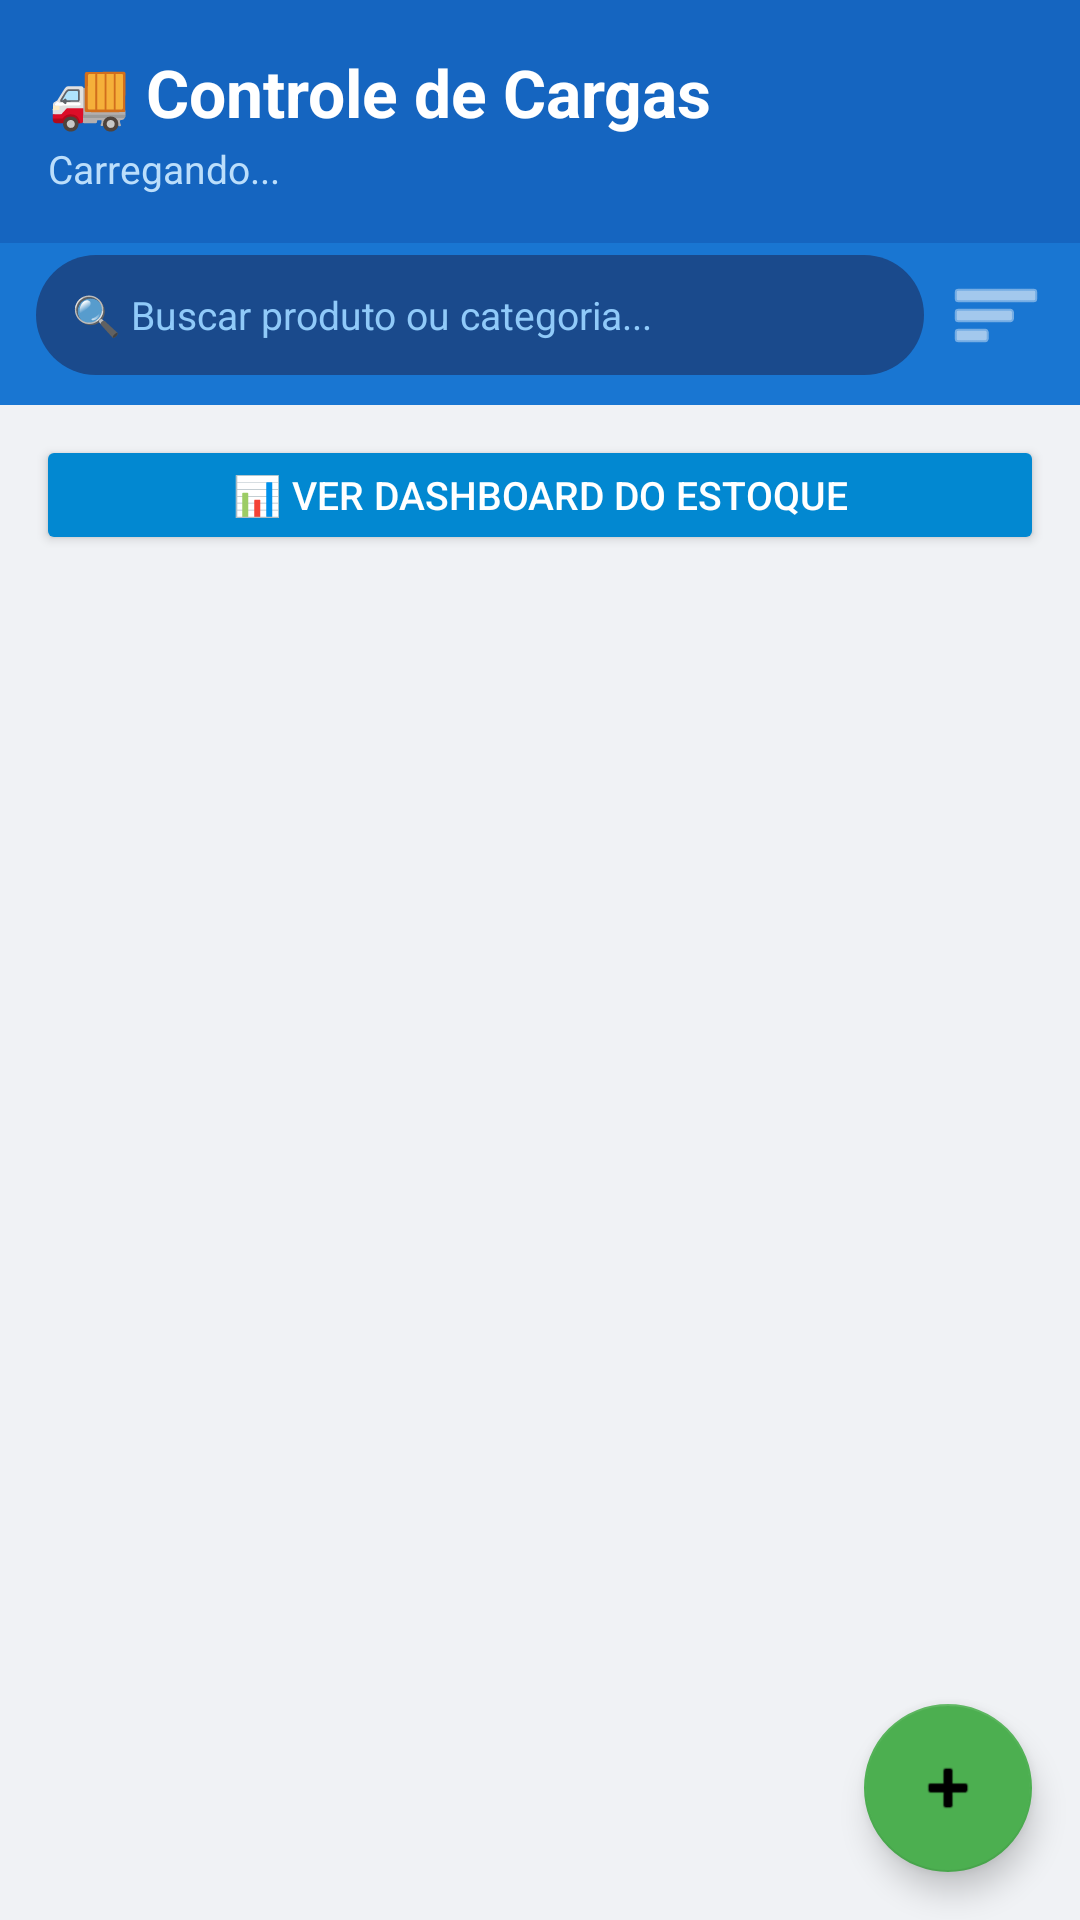

Locate icon controls on the screen. Image size 1080 × 1920, boxes as (x1, y1, x2, y2).
Novo Produto: (864, 1704, 1032, 1872)
Ordenar: (955, 289, 1037, 342)
